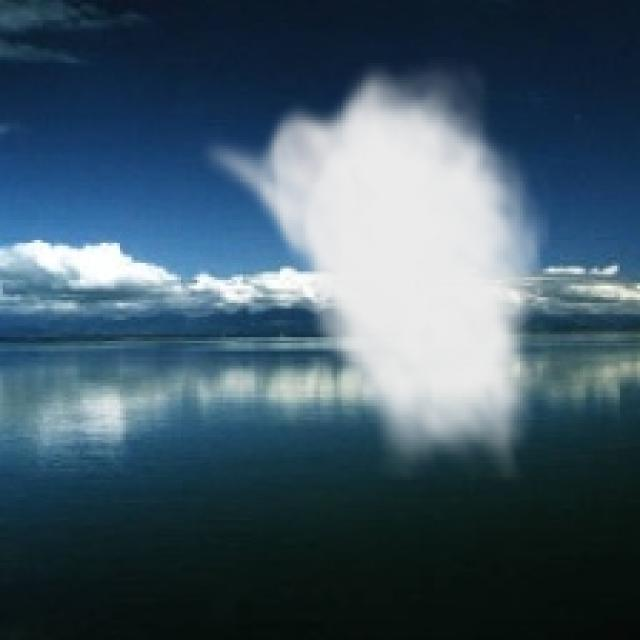smoke: (197, 57, 552, 483)
